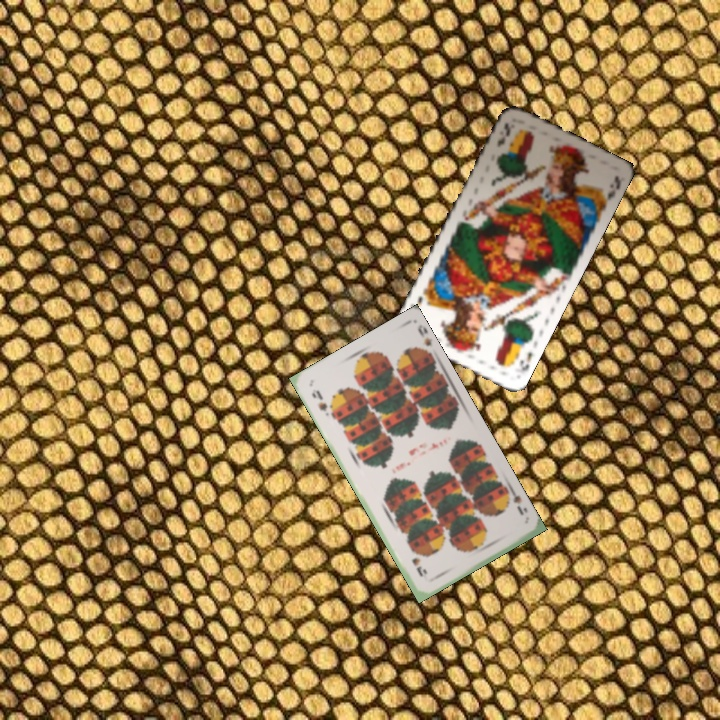EK: (493, 118, 518, 150), (515, 347, 535, 374)
S9: (500, 484, 530, 518), (307, 386, 330, 414)
